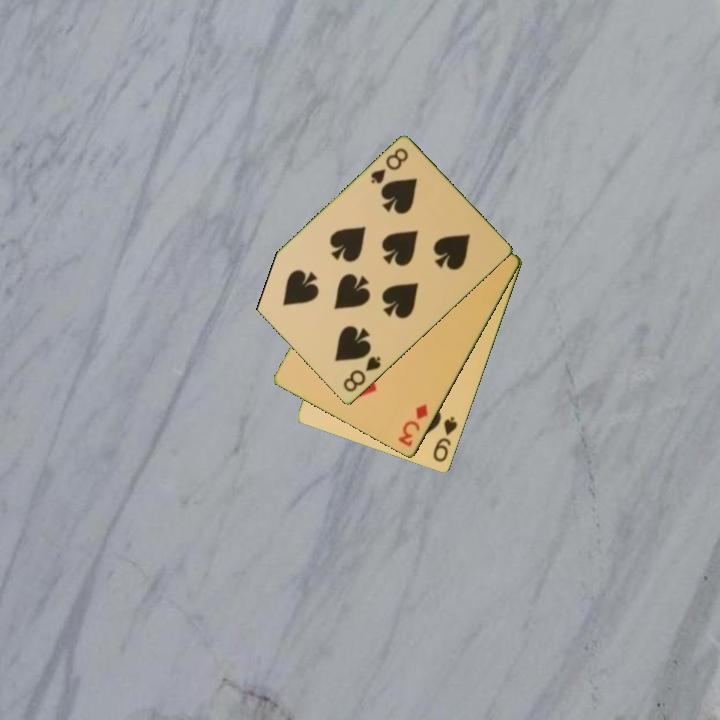3d: (395, 401, 431, 450)
8s: (339, 353, 384, 395), (367, 145, 411, 187)
9s: (429, 413, 461, 465)
